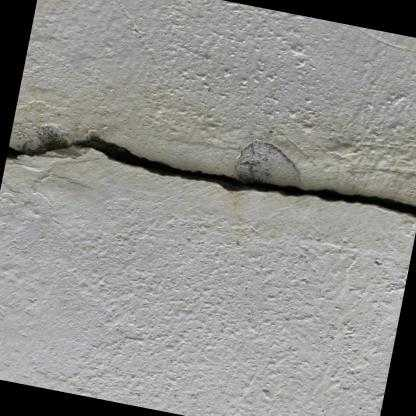crack: (6, 135, 416, 216)
